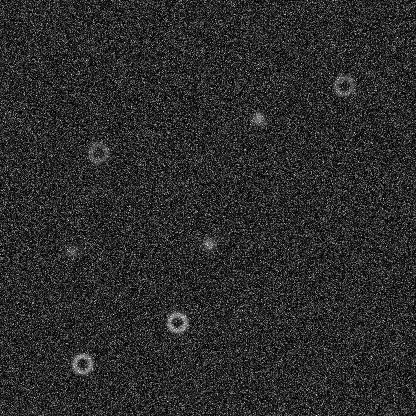Ring: (165, 310, 189, 334), (331, 73, 355, 97), (86, 140, 110, 164), (70, 351, 94, 375)
Spot: (201, 235, 217, 251), (63, 243, 79, 259), (250, 110, 266, 126)
